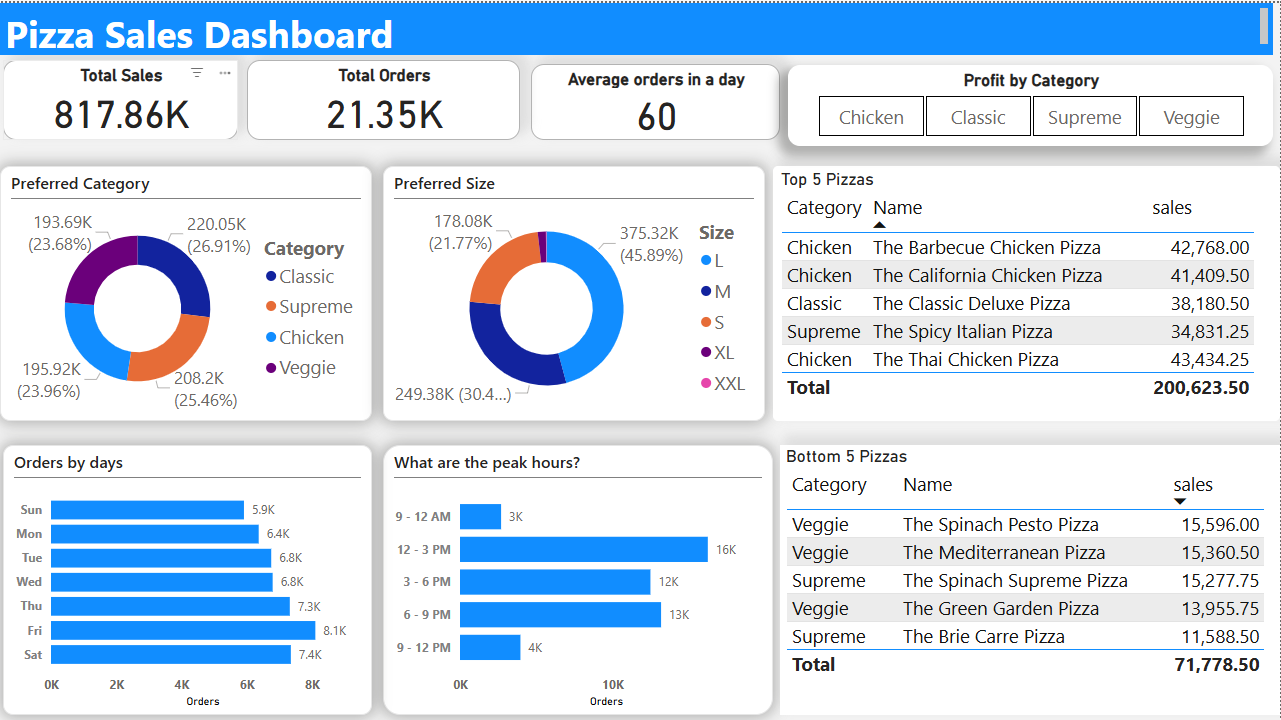

The page's visual inventory and layout, read from the dashboard file:
{"tool":"powerbi","page":{"name":"Dashboard","canvas":[1280,720],"ordinal":0},"visuals":[{"type":"clusteredBarChart","title":"What are the peak hours?","fields":{"Category":["Orders.Time Slot"],"Y":["CountNonNull(order_details.order_id)"]},"box":[383.3,441.7,390,270],"z":0},{"type":"barChart","title":"Orders by days","fields":{"Y":["CountNonNull(order_details.order_id)"],"Category":["Orders.Day Name"]},"box":[3.3,441.7,368.3,270],"z":1000},{"type":"donutChart","title":"Preferred Category","fields":{"Category":["Pizza Types.Category"],"Y":["order_details.sales"]},"box":[0,163.3,371.7,255],"z":2000},{"type":"donutChart","title":"Preferred Size","fields":{"Y":["order_details.sales"],"Category":["Pizzas.Size"]},"box":[383.3,163.3,381.7,255],"z":3000},{"type":"tableEx","title":"Top 5 Pizzas","fields":{"Values":["Pizza Types.Category","Pizza Types.Name","order_details.sales"]},"box":[773.3,163.3,506.7,255],"z":4000},{"type":"tableEx","title":"Bottom 5 Pizzas","fields":{"Values":["Pizza Types.Category","Pizza Types.Name","order_details.sales"]},"box":[780,441.7,500,270],"z":5000},{"type":"card","title":"Total Sales","fields":{"Values":["order_details.sales"]},"box":[3.3,56.7,235,80],"z":6000},{"type":"card","title":"Average orders in a day","fields":{"Values":["Orders.Average order in a day"]},"box":[530.6,61,249.4,75.6],"z":7000},{"type":"card","title":"Total Orders","fields":{"Values":["Count(order_details.order_id)"]},"box":[246.7,56.7,273.3,80],"z":9000},{"type":"textbox","box":[0,0,1273.3,51.7],"z":10000},{"type":"slicer","title":"Profit by Category","fields":{"Values":["Pizza Types.Category"]},"box":[788.3,61.7,485,81.7],"z":11000}]}

Visuals, with their boxes in screenshot pixels (x1, y1, x2, y2), scaled from the page's 1280x720 canvas onto the 1281x720 screenshot:
"What are the peak hours?" clusteredBarChart: x1=384, y1=442, x2=774, y2=712
"Orders by days" barChart: x1=3, y1=442, x2=372, y2=712
"Preferred Category" donutChart: x1=0, y1=163, x2=372, y2=418
"Preferred Size" donutChart: x1=384, y1=163, x2=766, y2=418
"Top 5 Pizzas" tableEx: x1=774, y1=163, x2=1280, y2=418
"Bottom 5 Pizzas" tableEx: x1=781, y1=442, x2=1280, y2=712
"Total Sales" card: x1=3, y1=57, x2=238, y2=137
"Average orders in a day" card: x1=531, y1=61, x2=781, y2=137
"Total Orders" card: x1=247, y1=57, x2=520, y2=137
textbox: x1=0, y1=0, x2=1274, y2=52
"Profit by Category" slicer: x1=789, y1=62, x2=1274, y2=143
